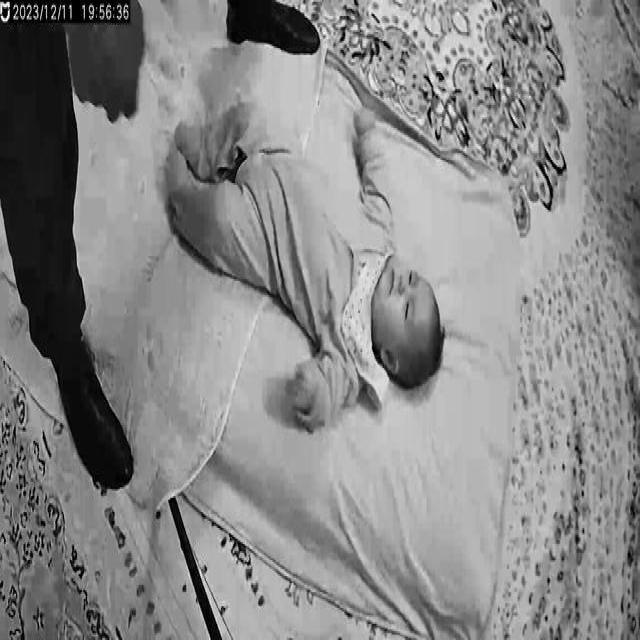baby: (165, 98, 448, 428)
